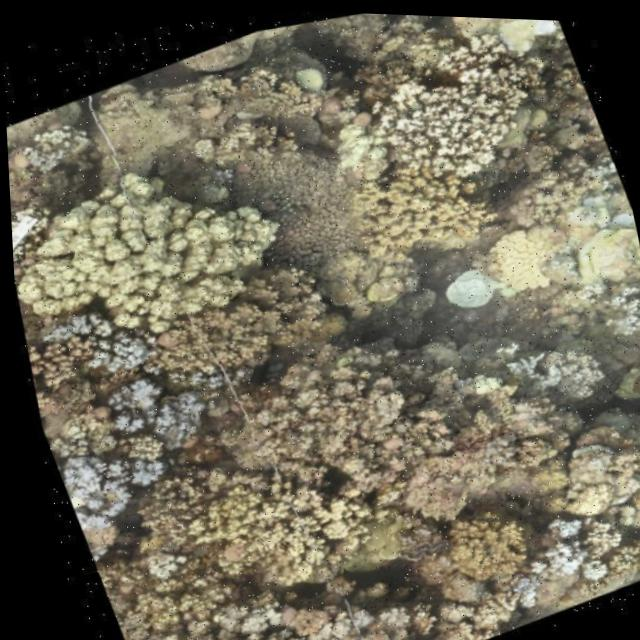Bleached Coral: (5, 116, 263, 357), (43, 422, 162, 529), (91, 356, 211, 459), (511, 516, 589, 590)
